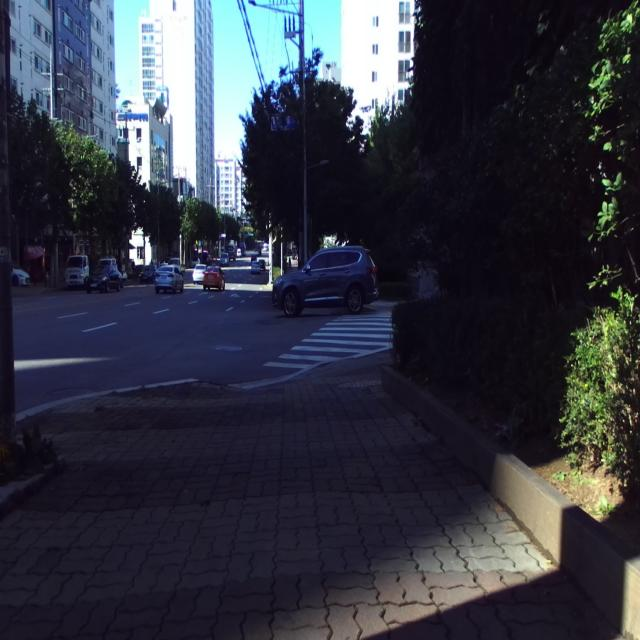횡단보도: (263, 313, 395, 369)
